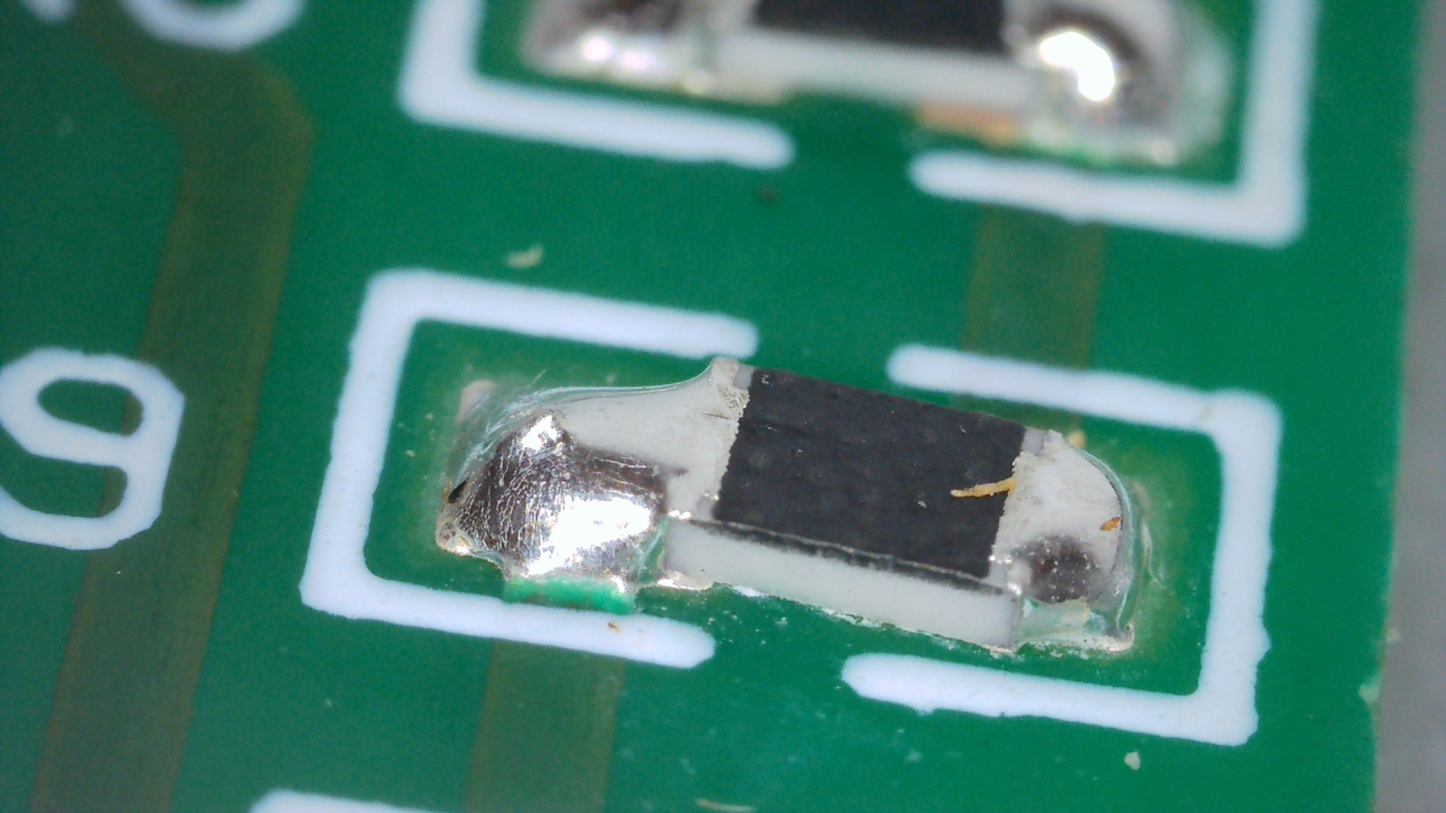NG: (443, 358, 758, 594), (985, 427, 1134, 652), (504, 410, 563, 461)
